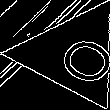O_NW: (35, 22, 110, 87)
